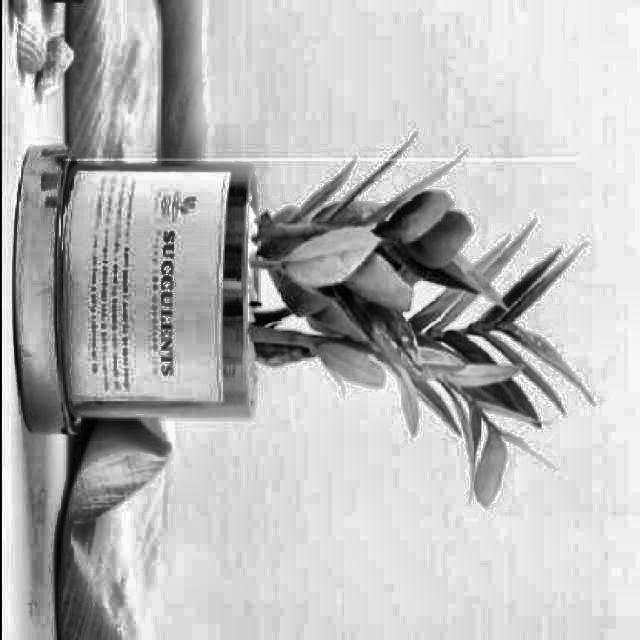plants: (60, 158, 577, 434)
